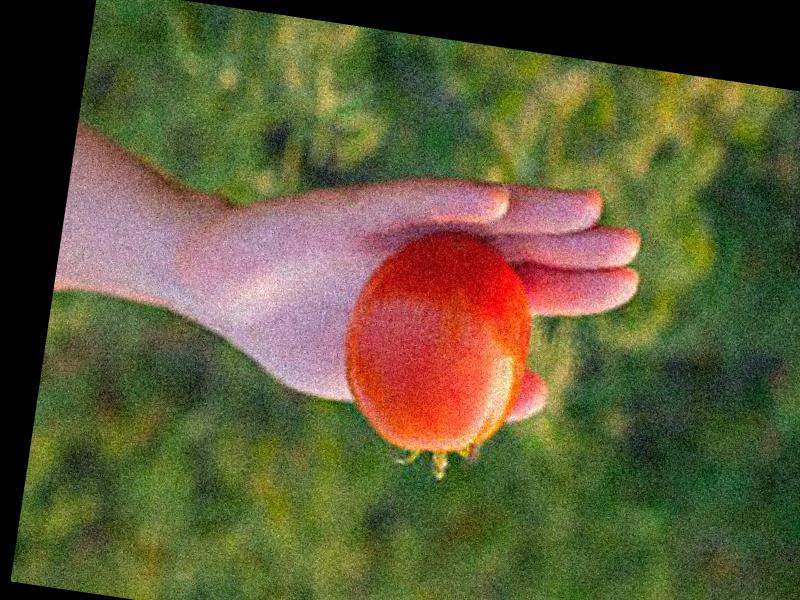Tomato: (334, 215, 541, 462)
